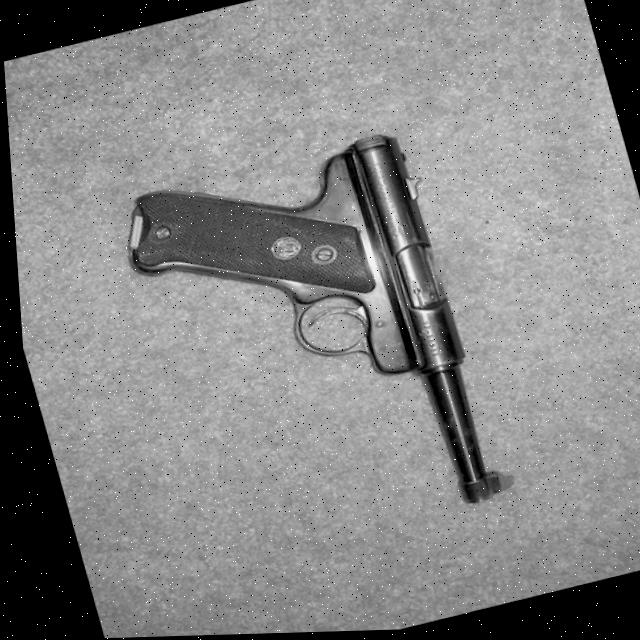pistol: (104, 126, 508, 573)
